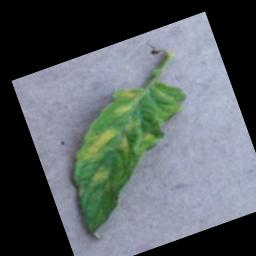Leaf_Mold: (75, 118, 143, 166), (106, 84, 144, 118), (87, 161, 115, 186)
